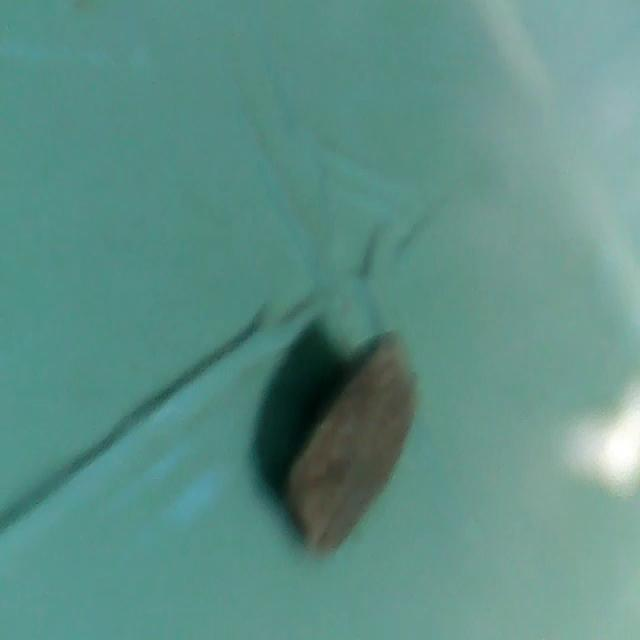rock: (261, 332, 429, 568)
